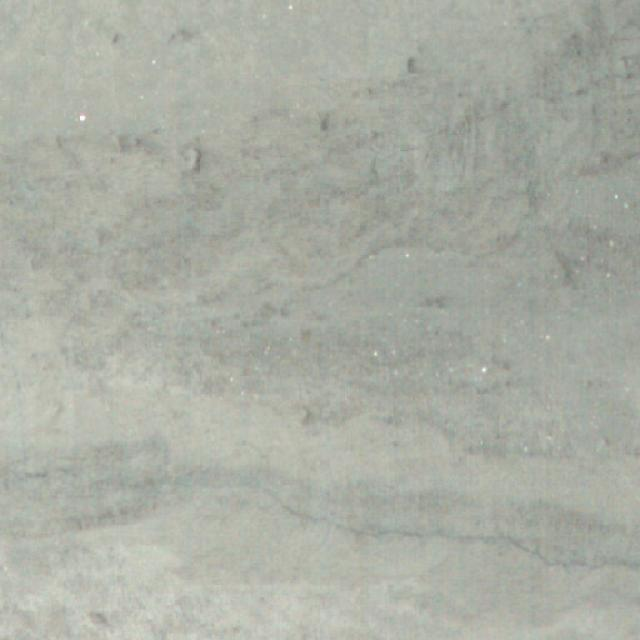Transverse: (0, 484, 640, 596)
